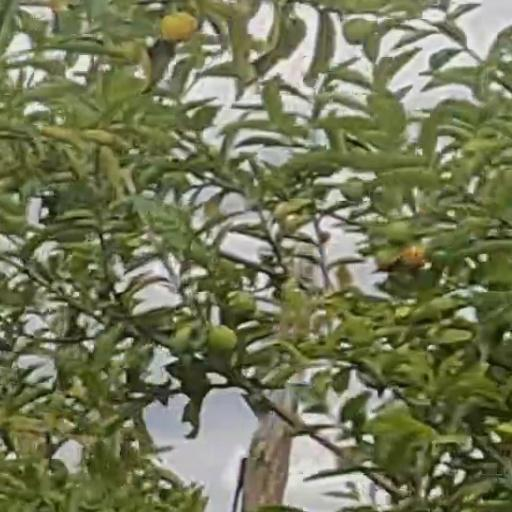acerola_verde: (345, 20, 373, 42), (210, 327, 237, 349)
acerola_vermelha: (163, 14, 195, 39), (400, 245, 424, 268)
